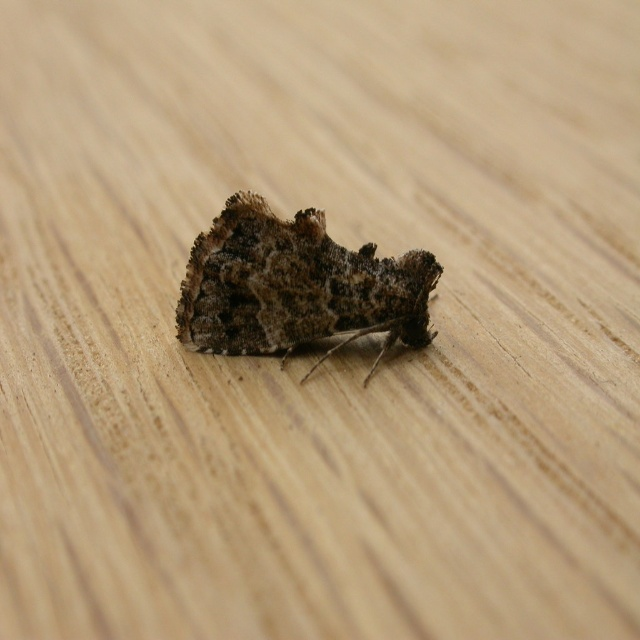Moths and butterflies: (178, 190, 440, 391)
